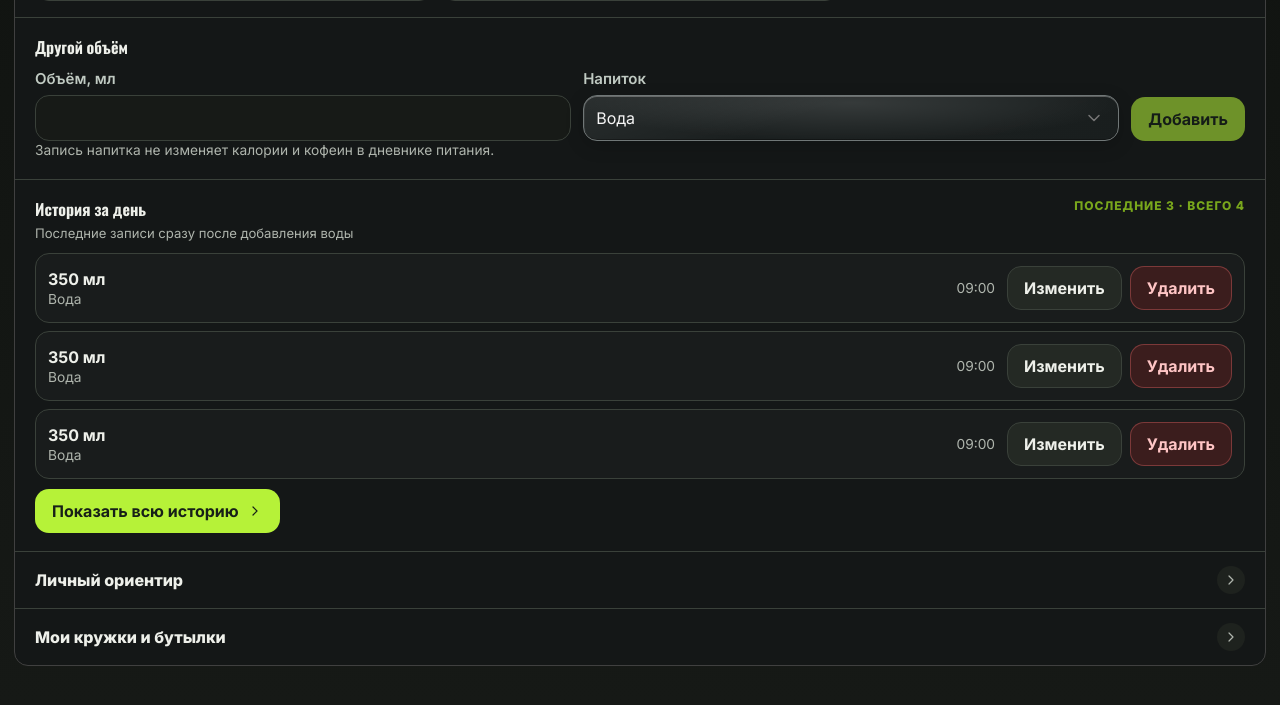
Test: HydrationTracker › reports history count truthfully for Последние 3 · всего 4
The image size is (1280, 705).
(page scrolled)
Expected: the text "Последние 3 · всего 4" is shown, [1074, 198, 1245, 213]
Expected: the number of buttons "Изменить" is 3, [1007, 266, 1122, 310]; [1007, 344, 1122, 388]; [1007, 422, 1122, 466]
Click the button "Показать всю историю" at {"x": 157, "y": 511}, box [35, 489, 280, 533]
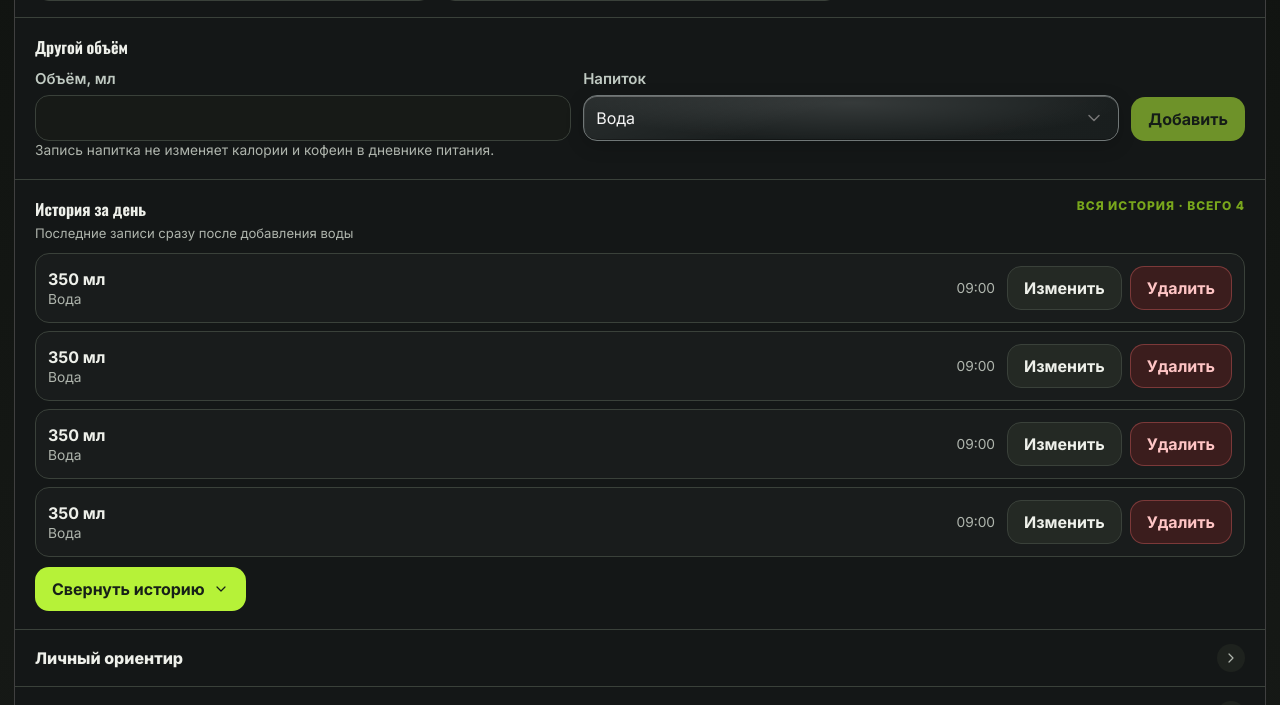
Expected: the text "Вся история · всего 4" is shown, [1077, 198, 1245, 213]
Expected: the number of buttons "Изменить" is 4, [1007, 266, 1122, 310]; [1007, 344, 1122, 388]; [1007, 422, 1122, 466]; [1007, 500, 1122, 544]
Click the button "Свернуть историю" at {"x": 140, "y": 589}, box [35, 567, 246, 611]
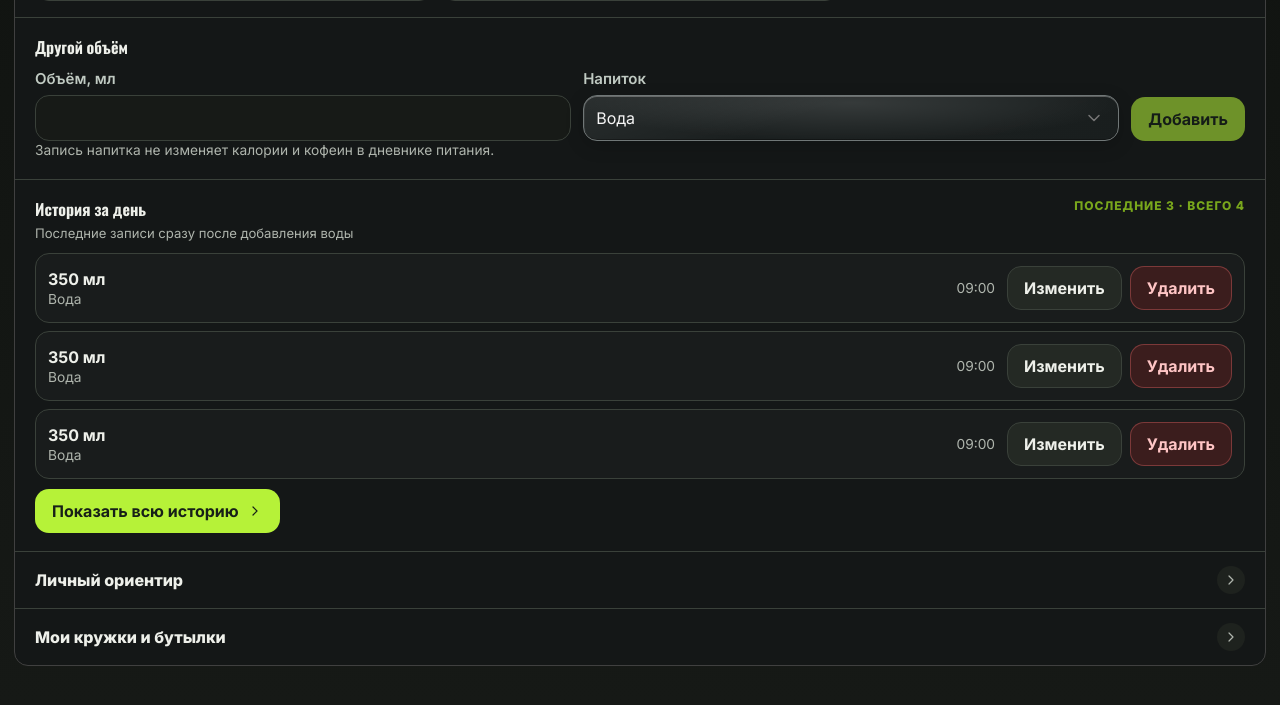
Expected: the number of buttons "Изменить" is 3, [1007, 266, 1122, 310]; [1007, 344, 1122, 388]; [1007, 422, 1122, 466]
